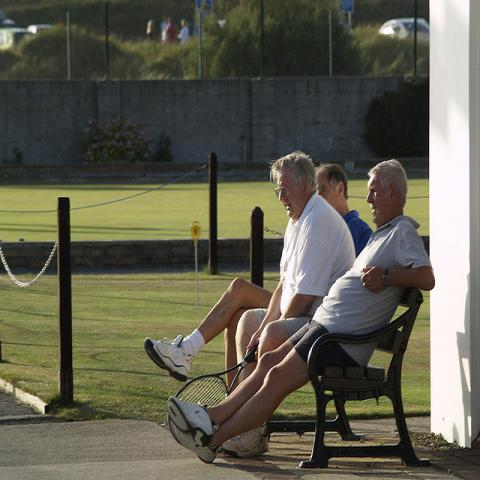car: (378, 17, 430, 36)
